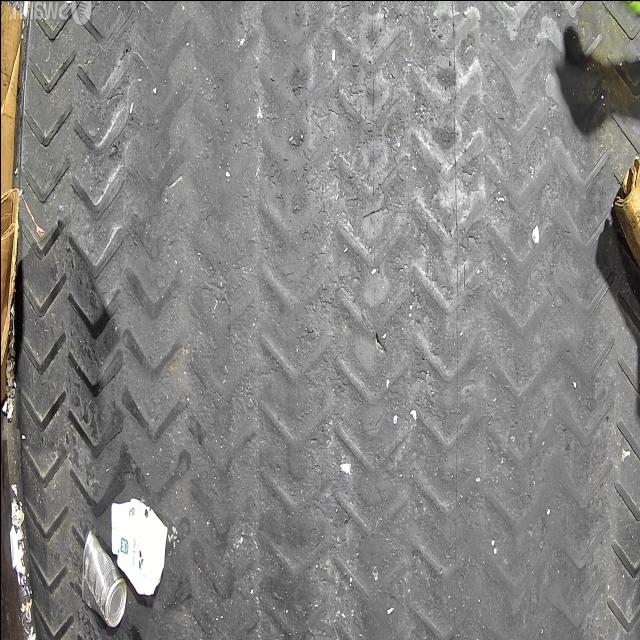can: (80, 528, 126, 628)
